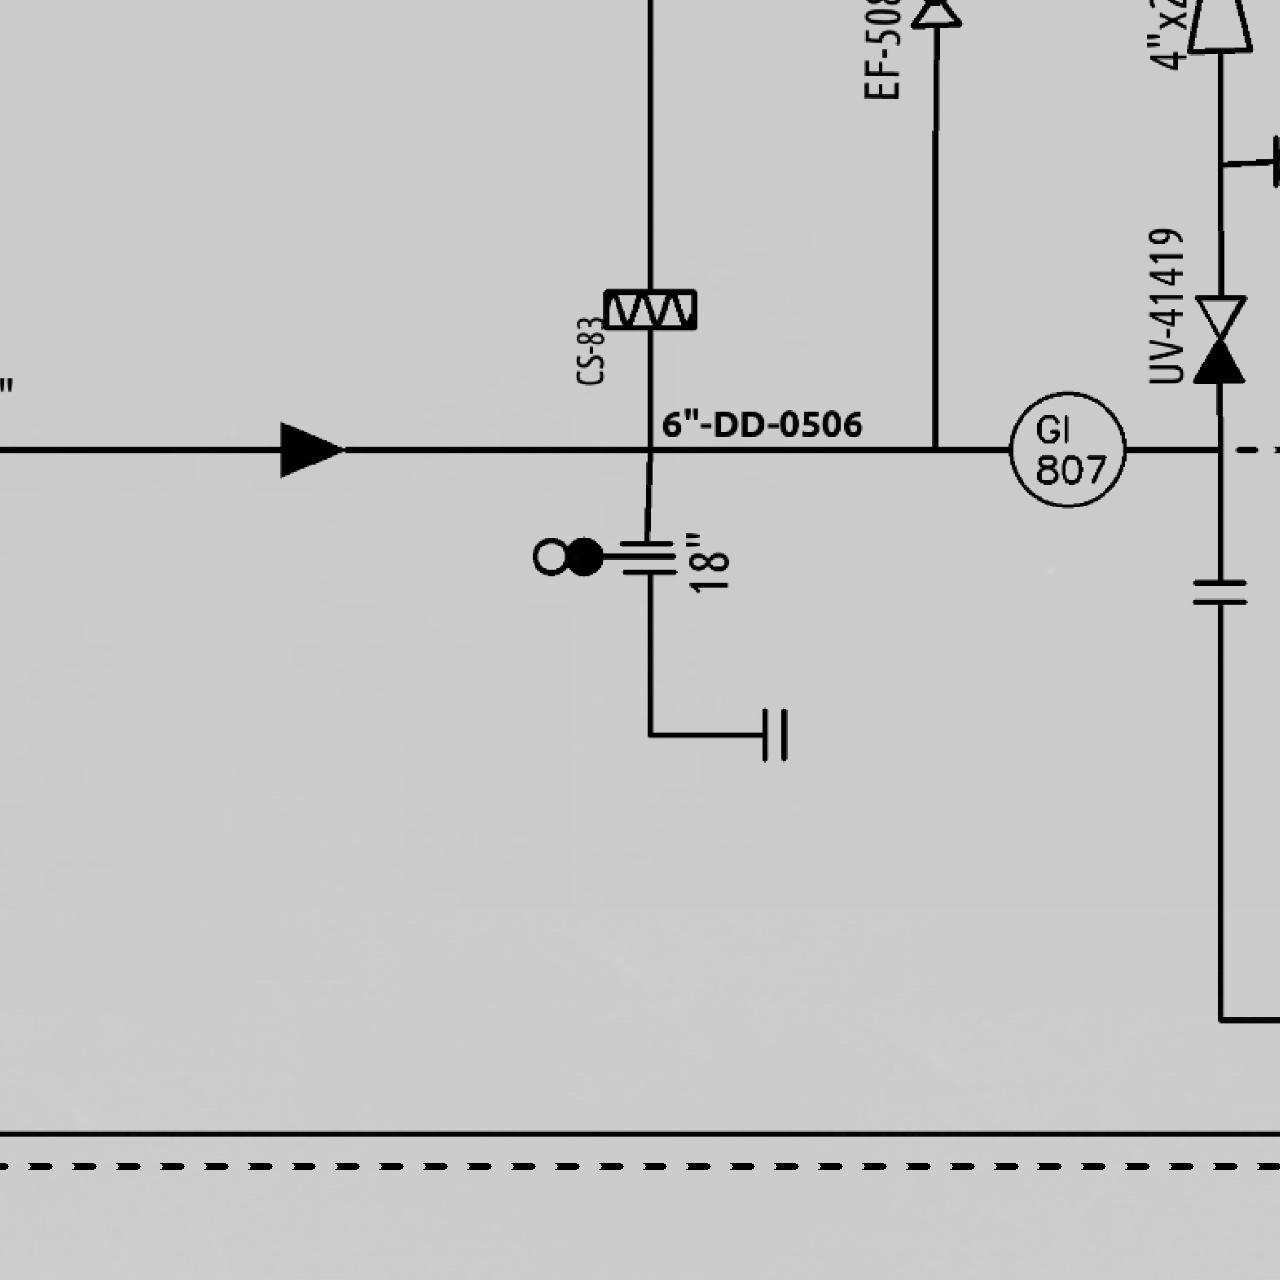Half closed valve: (1189, 290, 1250, 387)
